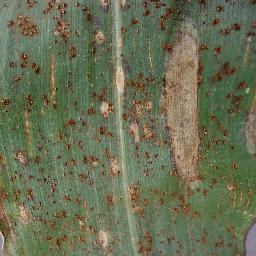Corn_Blight: (0, 0, 133, 254), (138, 0, 219, 206), (221, 0, 256, 252), (134, 209, 217, 254)
